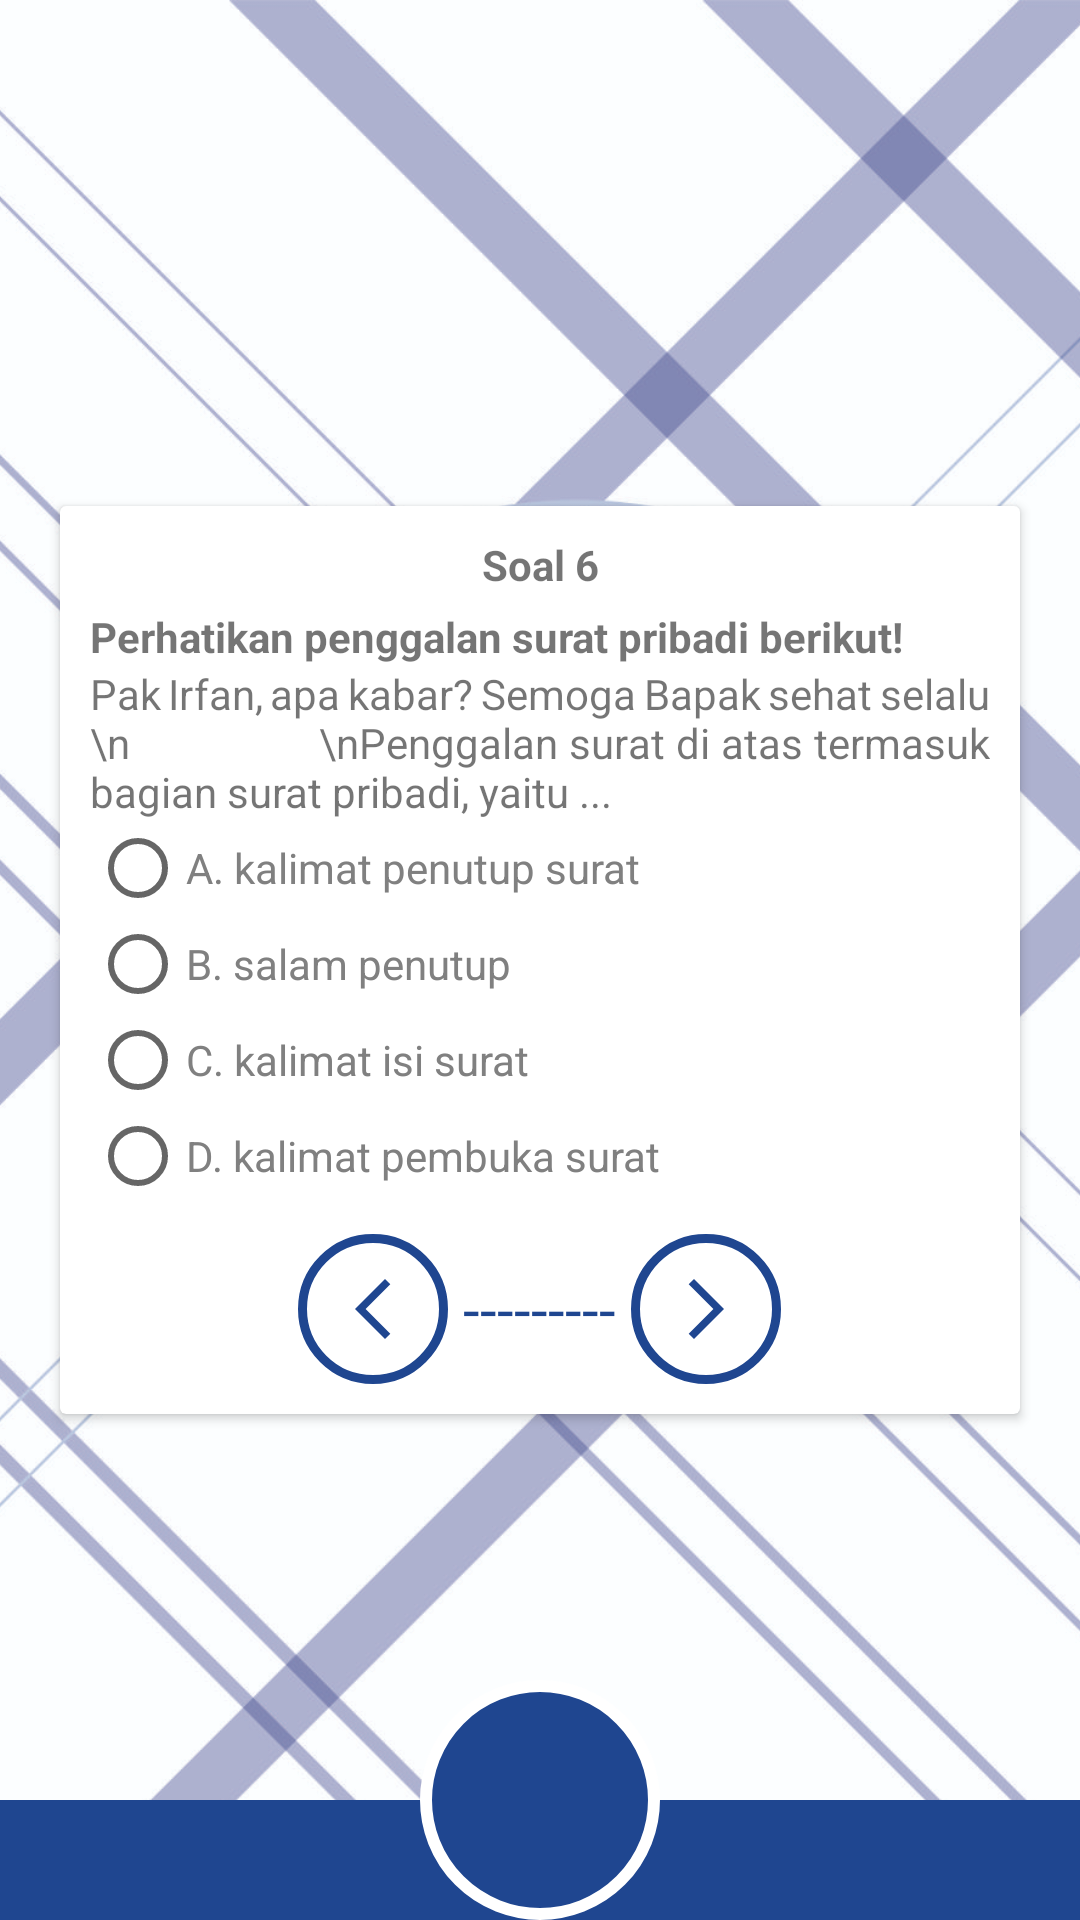

Named icons in this screenshot (1080 x 1920) and their bounding boxes, (x1, y1, x2, y2):
arrow back: (298, 1234, 448, 1384)
arrow forward: (631, 1234, 781, 1384)
